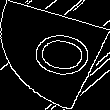O_E: (14, 25, 96, 85)
